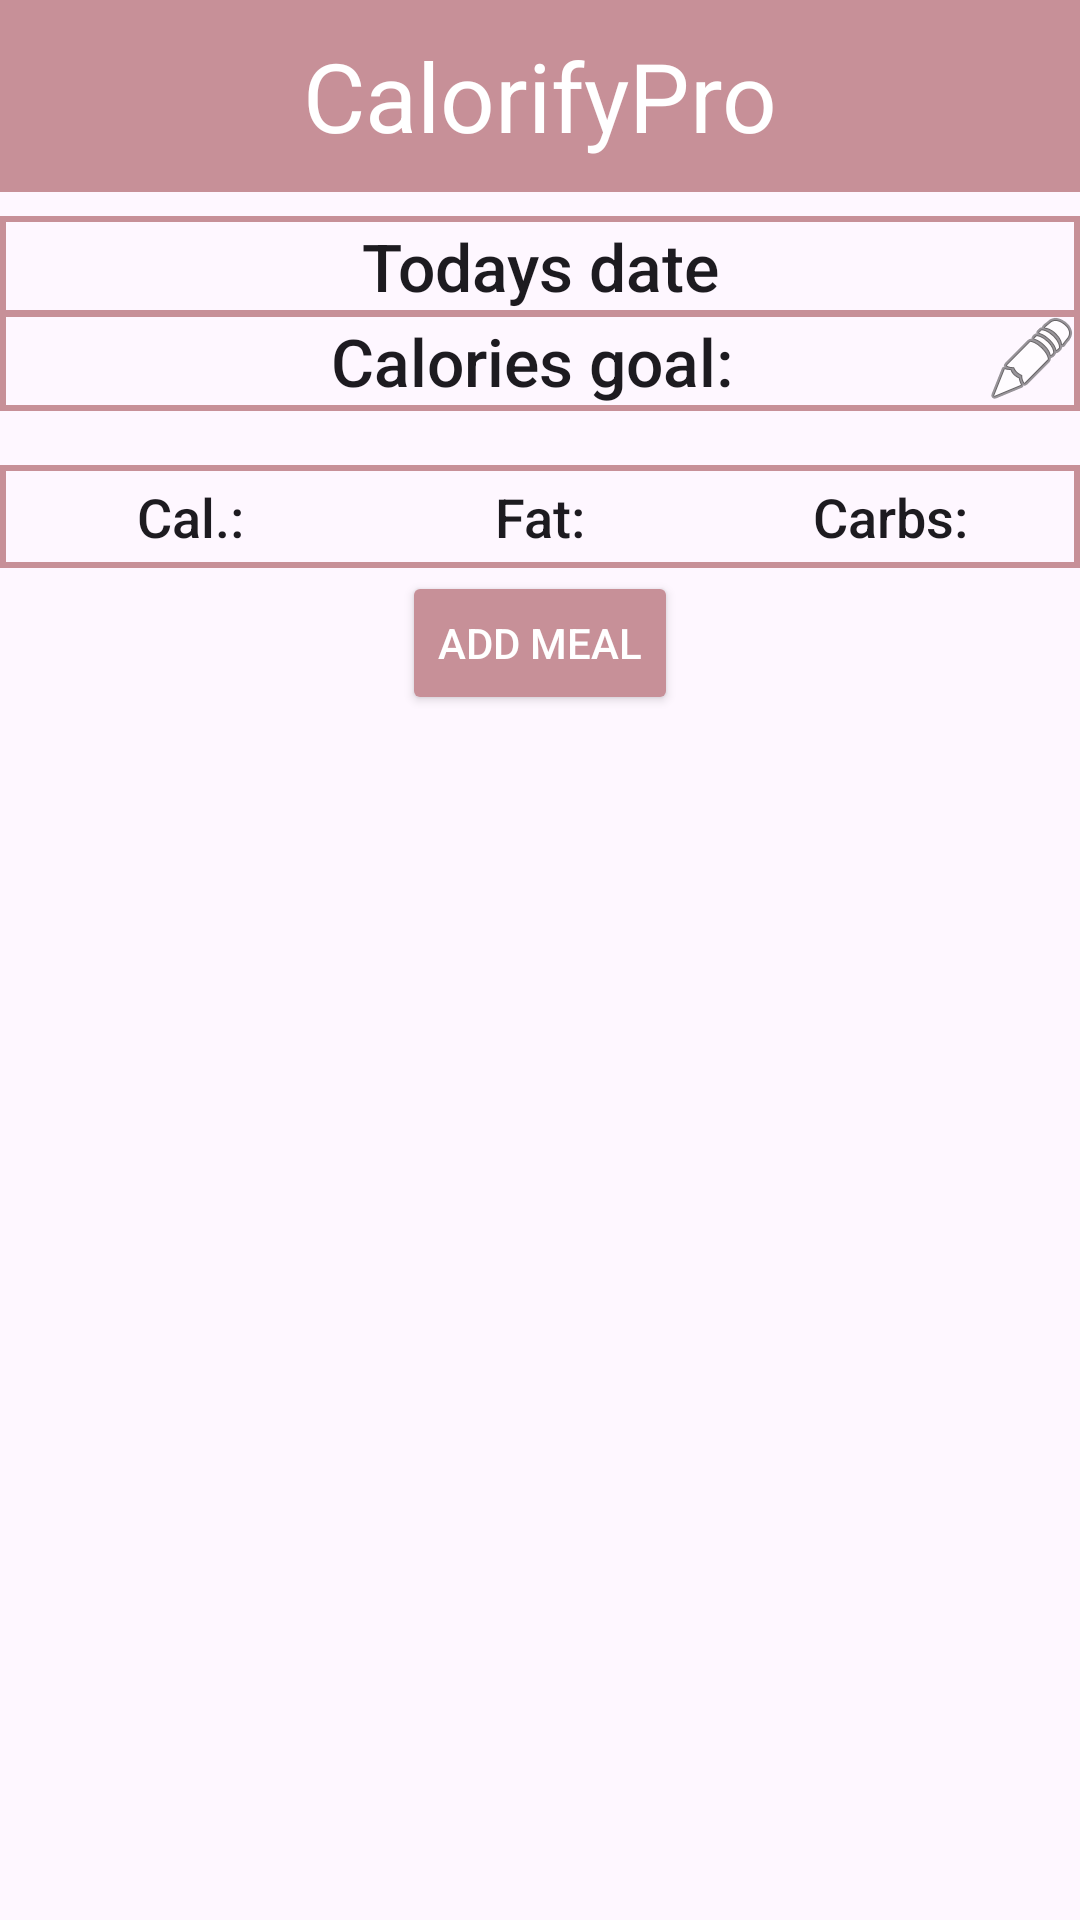

Where to tap for icons on this 1080w x 1920h app screen, as [x,y]:
edit: [1032,359]
